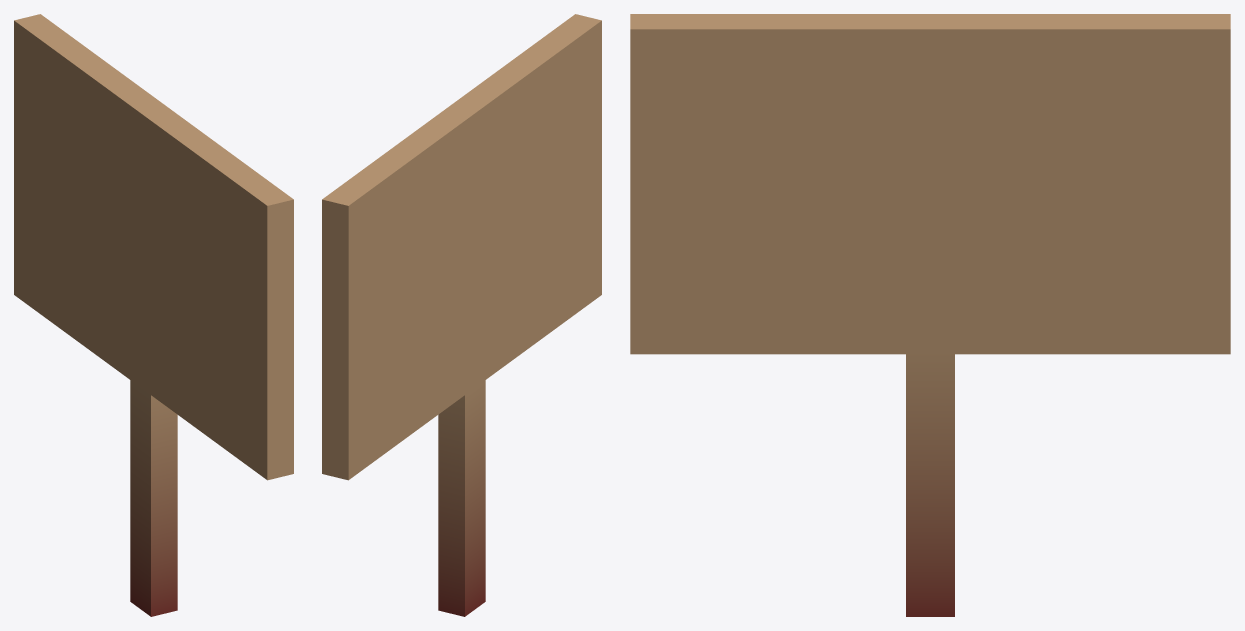
File: PlaceholderSign.fbx
The picture shows the model from 3 angles, left to right: view 1: azimuth 30°, elevation 25°; view 2: azimuth 150°, elevation 25°; view 3: azimuth 270°, elevation 25°; orthographic projection. The views are drawn at different scales.
Visible parts, largest first — view 1: Cube; view 2: Cube; view 3: Cube.
Part boxes in pixels (x1,y1,x2,y2): Cube: (14, 14, 293, 616); Cube: (322, 14, 601, 616); Cube: (630, 14, 1230, 616).
Size of the model in its own units: 20.2 by 362 by 335.
